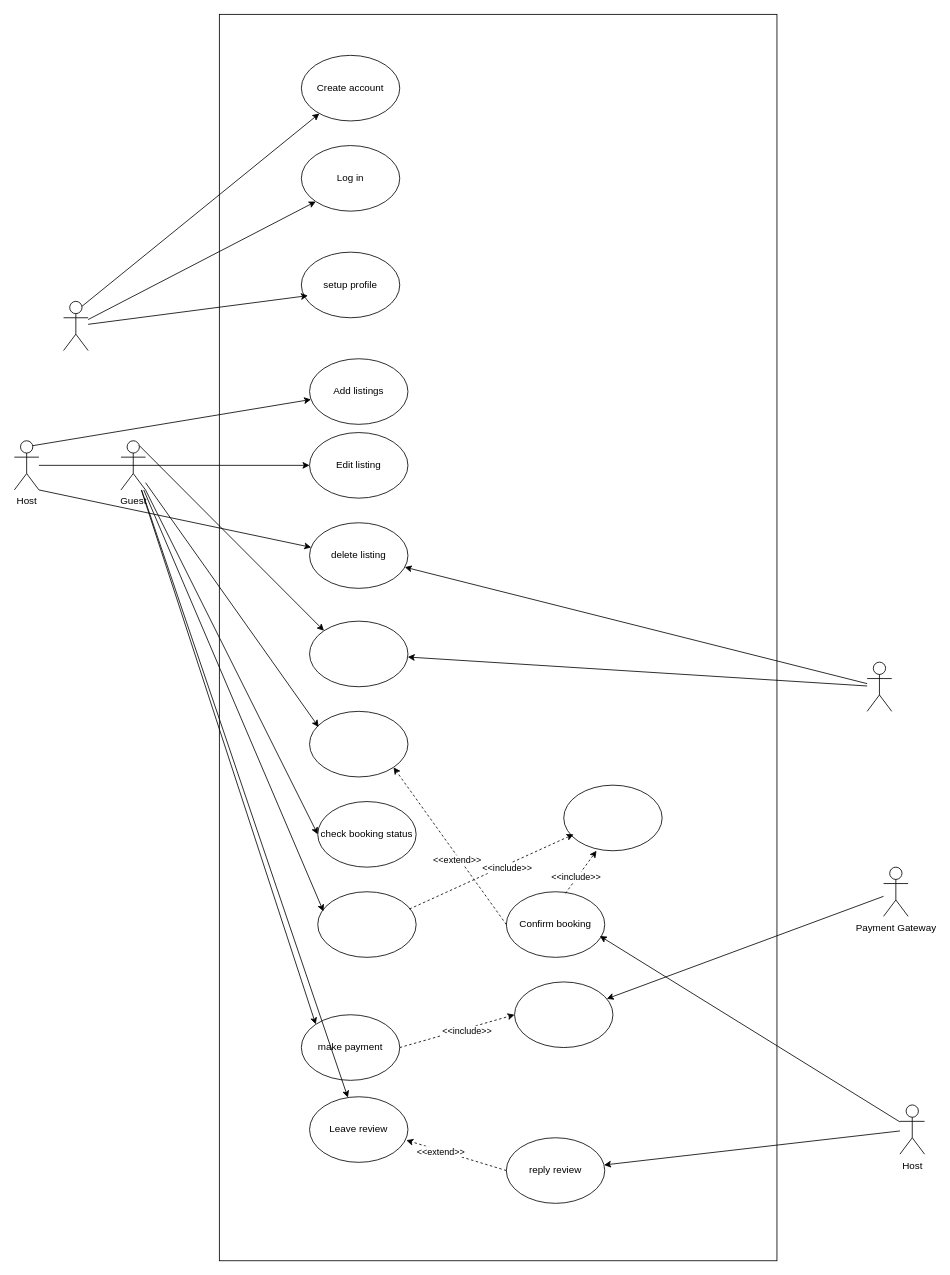
This 950x1275 diagram has some shape labels left out. The centre of each missing label's shape, as x and y in pixels:
"Admin" belongs at pixel 879 686.
"Cancel booking" belongs at pixel 366 924.
"create booking" belongs at pixel 358 744.
"Customer" belongs at pixel 75 326.
"Notify user" belongs at pixel 612 817.
"process payment" belongs at pixel 563 1014.
"Search for properties" belongs at pixel 358 653.
